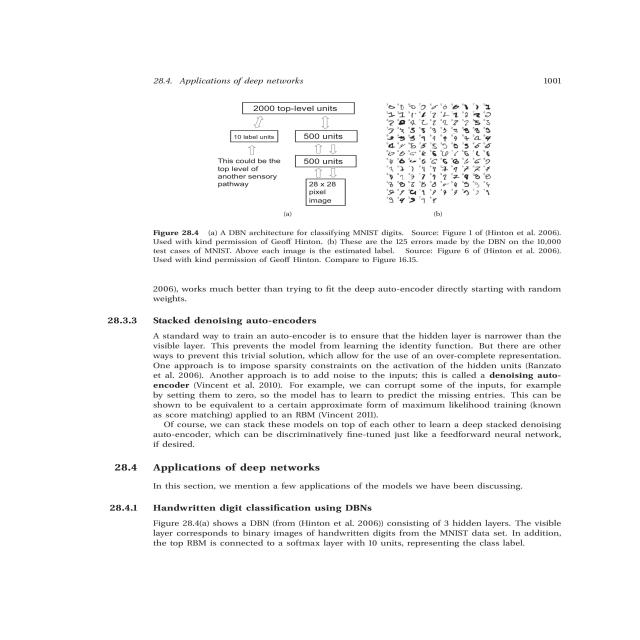diagram: (84, 92, 595, 264)
